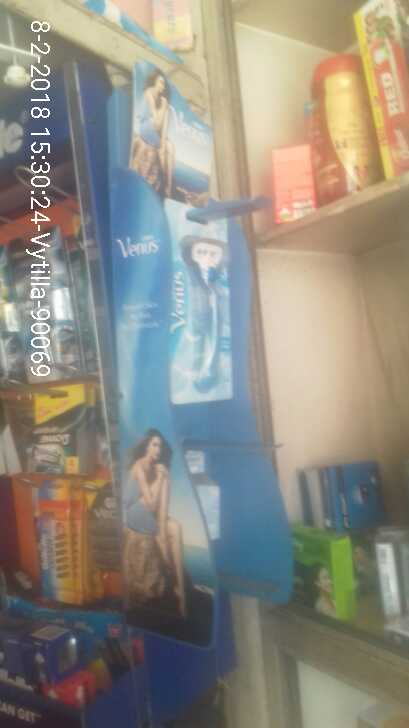venus: (162, 200, 238, 408)
